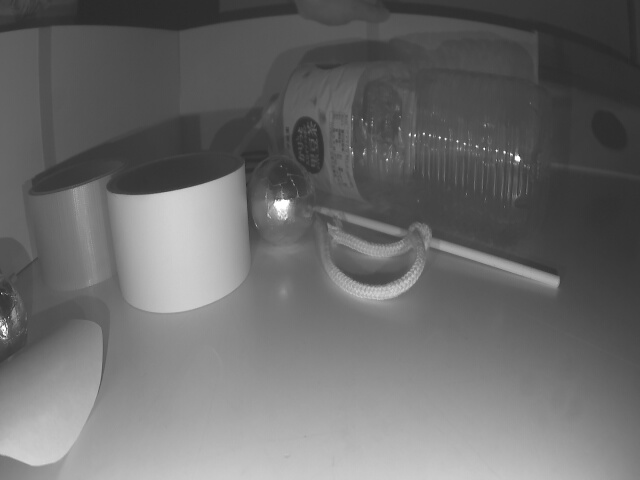Live: (245, 154, 313, 243), (0, 271, 29, 365)
